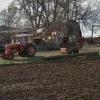Tractor: (0, 25, 41, 69)
